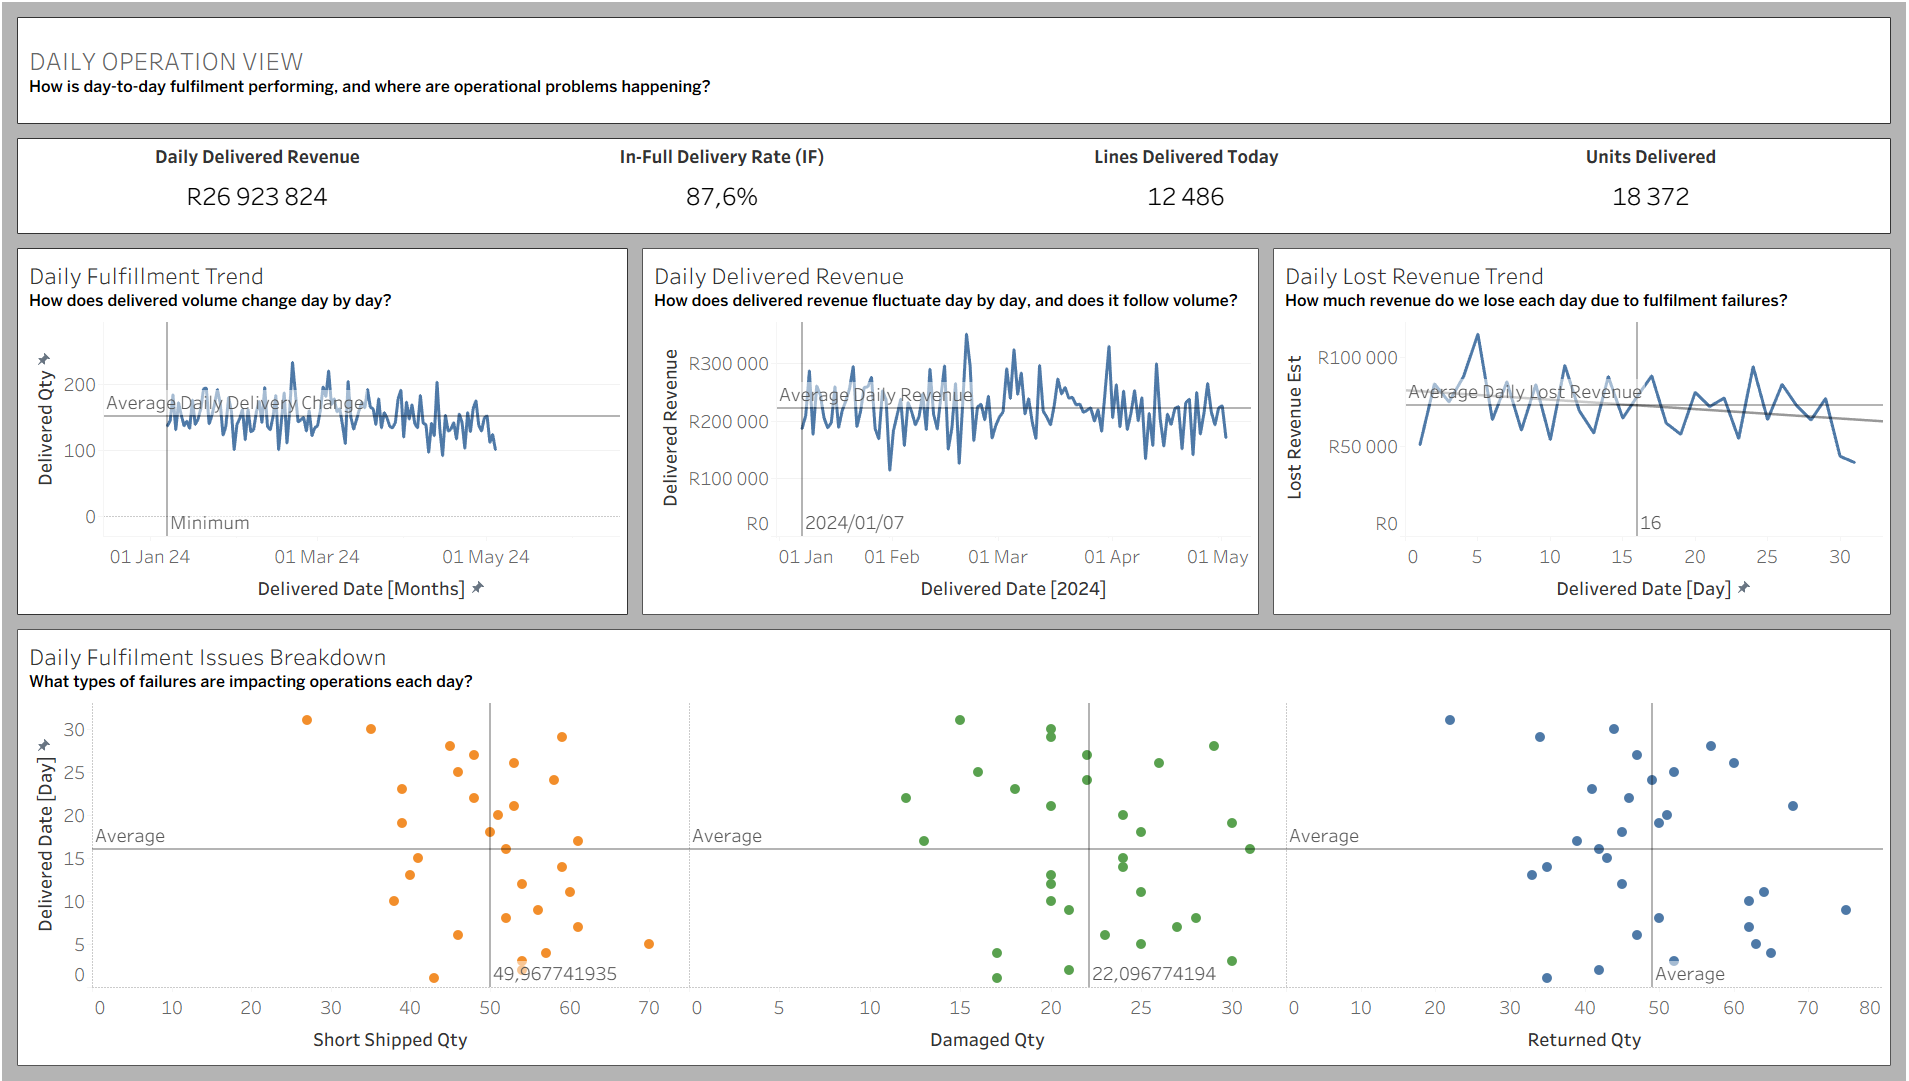

This screenshot's page, from the dashboard's own definition file:
{"tool":"tableau","page":{"name":"Daily Operations View","canvas":[1000,1000],"units":"permille","ordinal":0},"visuals":[{"type":"text","box":[10,17.8,980,109.9]},{"type":"worksheet","title":"KPI tiles","mark":"Automatic","box":[10,127.8,980,99.7]},{"type":"worksheet","title":"Daily Fulfillment Trend","mark":"Automatic","rows":["delivered_qty"],"cols":["delivered_date"],"box":[10,227.4,324.5,345.6]},{"type":"worksheet","title":"Daily Delivered Revenue","mark":"Automatic","rows":["delivered_revenue"],"cols":["delivered_date"],"box":[334.5,227.4,327.7,345.6]},{"type":"worksheet","title":"Daily Lost Revenue Trend","mark":"Automatic","rows":["lost_revenue_est"],"cols":["delivered_date"],"box":[662.2,227.4,327.9,345.6]},{"type":"worksheet","title":"Daily Fulfilment Issues Breakdown","mark":"Circle","rows":["delivered_date"],"cols":["Calculation_2033034265264128","Calculation_2033034265649153","Calculation_2033034265784322"],"box":[10,573.1,980,409.1]}]}

Visuals, with their boxes on the dashboard's canvas, which has no fixed pixel size, in thousandths of its width and height (x1, y1, x2, y2). These are canvas units, not pixel positions in the 1909x1081 screenshot, which may show the page scaled, cropped or inside an application window:
text: region(10, 18, 990, 128)
"KPI tiles" worksheet: region(10, 128, 990, 228)
"Daily Fulfillment Trend" worksheet: region(10, 227, 334, 573)
"Daily Delivered Revenue" worksheet: region(334, 227, 662, 573)
"Daily Lost Revenue Trend" worksheet: region(662, 227, 990, 573)
"Daily Fulfilment Issues Breakdown" worksheet (Circle marks): region(10, 573, 990, 982)
